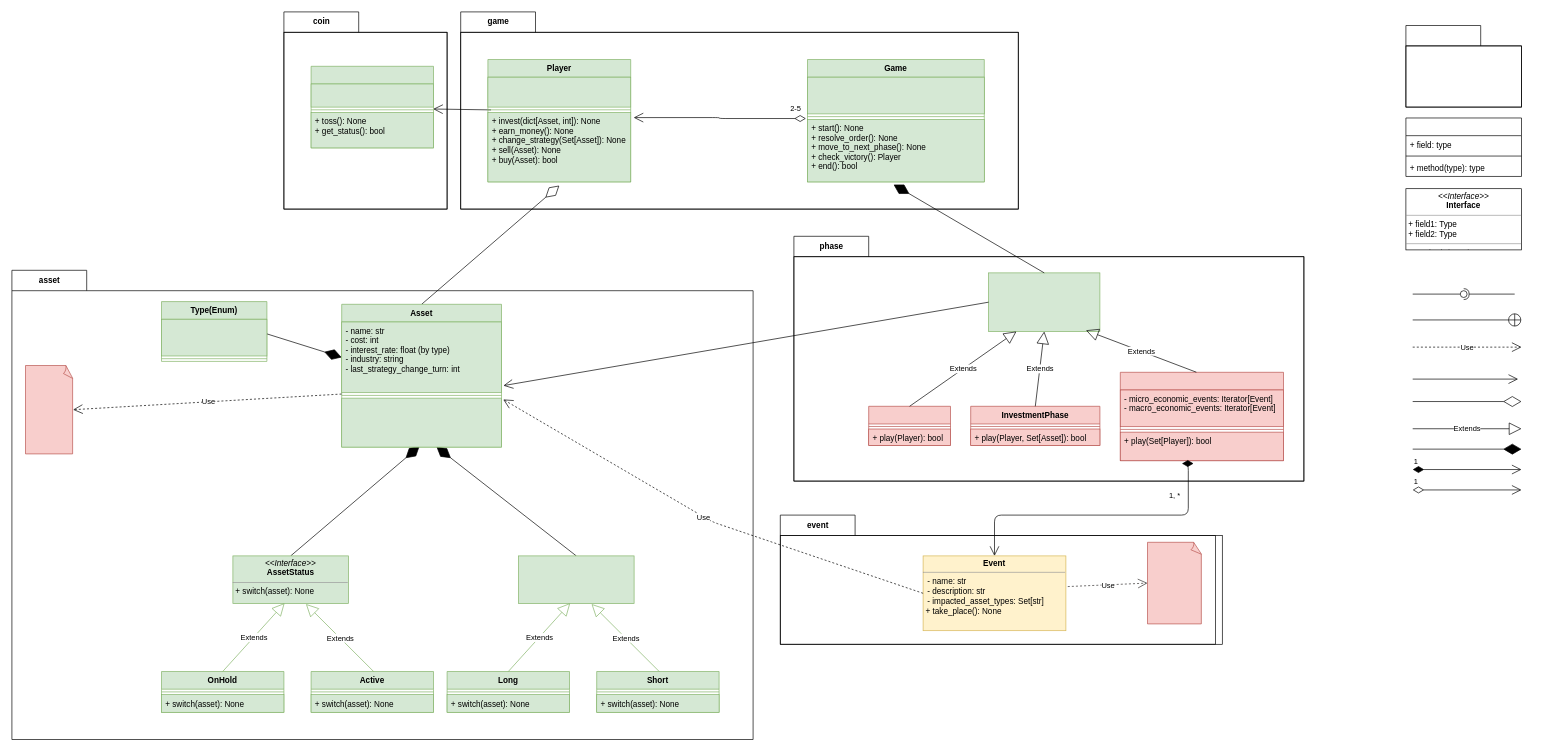
This 1551x751 diagram has some shape labels left out. The shapes that lost their labels are listed below. From the top down, each one's box as (x1, y1, x2, y2) in pixels, then its label:
(1405, 25, 1522, 107): Package
(310, 83, 434, 107): - trend_up: bool
(310, 66, 434, 148): TrendCoin (singleton)
(487, 76, 631, 107): - portfolio: Set[Asset] - capital: int
(807, 76, 984, 114): - players: dict[turn, Player] - phases: Iterator[Phase] - current_turn: int
(1405, 117, 1522, 176): Classname
(988, 272, 1100, 332): <<abstract>> Phase - assets_in_game: Set[Asset] + play(): bool
(161, 319, 267, 356): - STOCK: int - BOND: int - CRYPTO: int
(25, 365, 73, 454): assets.json (contains asset names, types, and interest rates)
(341, 397, 502, 447): + change_status(): None + is_on_hold():
(868, 406, 951, 445): PurchasePhase
(1120, 372, 1284, 461): EventsPhase
(518, 555, 634, 604): <<Interface>> InvestmentStatus + switch(asset): None
(1147, 542, 1202, 624): events.json (contains event names, descriptions, and impacted asset types)
